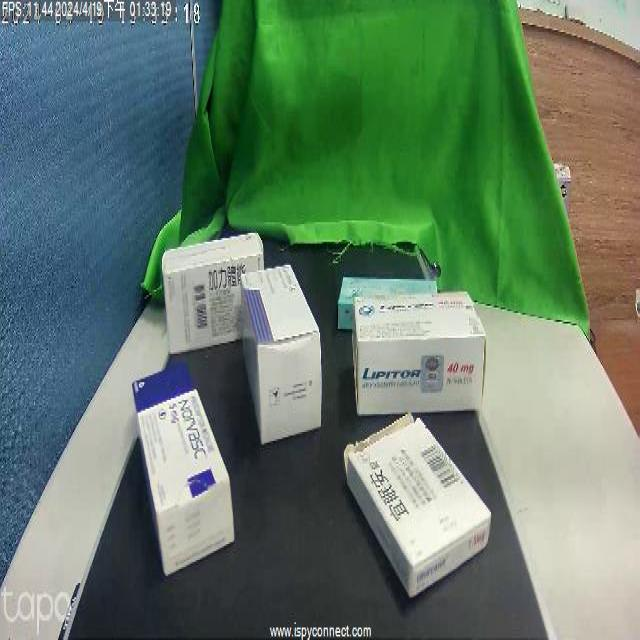box: (135, 348, 231, 580), (355, 396, 473, 562), (343, 285, 483, 408), (161, 228, 267, 349), (247, 268, 309, 442)
